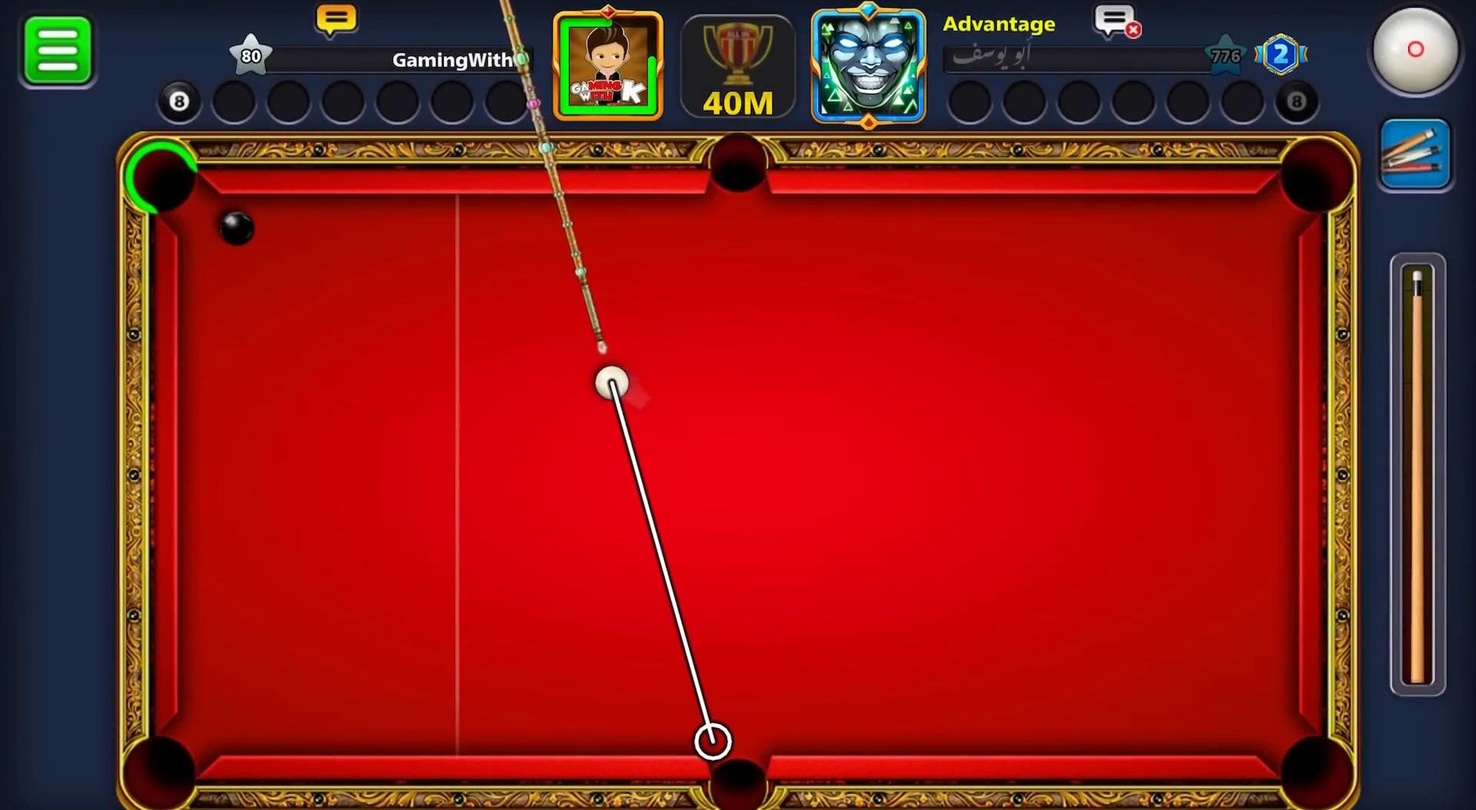Ball: (217, 211, 257, 247)
Force: (1389, 253, 1451, 707)
Guideline: (601, 381, 724, 747)
Hole: (1267, 118, 1366, 228), (1254, 719, 1374, 809), (122, 733, 198, 808), (125, 140, 196, 216), (707, 132, 768, 192), (705, 755, 770, 809)
Play_Area: (195, 193, 1293, 752)
Spin: (1363, 1, 1474, 107)
White: (591, 362, 633, 400)
